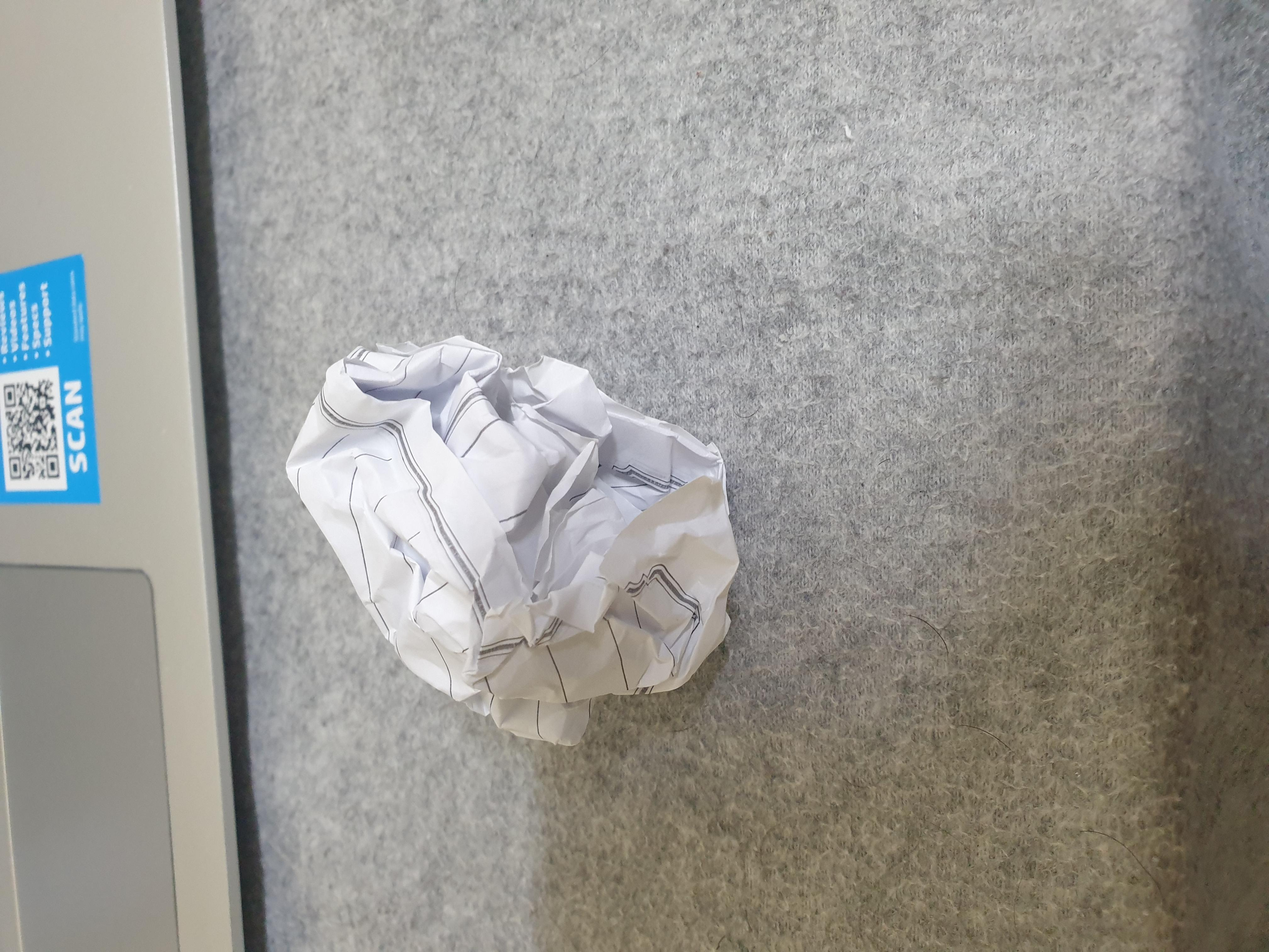paper: (247, 201, 845, 585)
